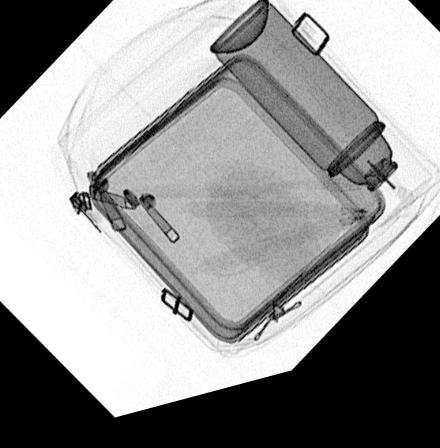Sprayer: (207, 7, 437, 250)
